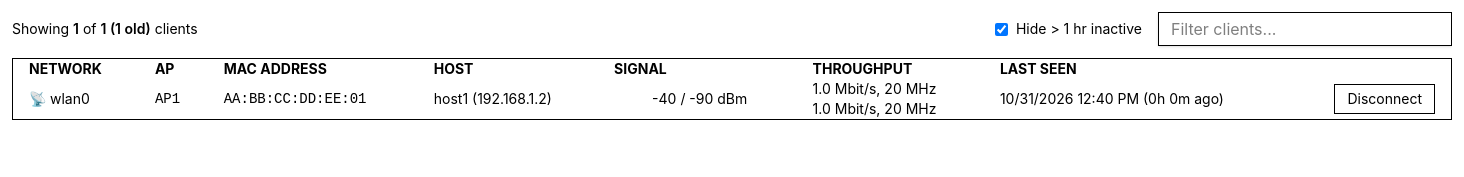
Test: ClientsTable › hides old clients when "Hide > 1 hr inactive" is checked
Expected: the link "AP1" is shown, x1=155 y1=91 x2=180 y2=107
Expected: the text "AP2" is not shown
# Uncheck and check again to verify toggle
Step 1. Click the checkbox labelled "Hide > 1 hr inactive" → (1002,29), box x1=995 y1=22 x2=1008 y2=36
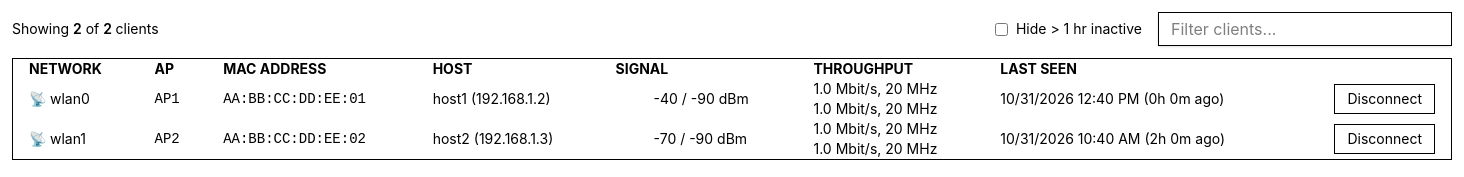
Now the link "AP2" is shown, box x1=155 y1=131 x2=180 y2=147
Step 2. Click the checkbox labelled "Hide > 1 hr inactive" → (1002,29), box x1=995 y1=22 x2=1008 y2=36
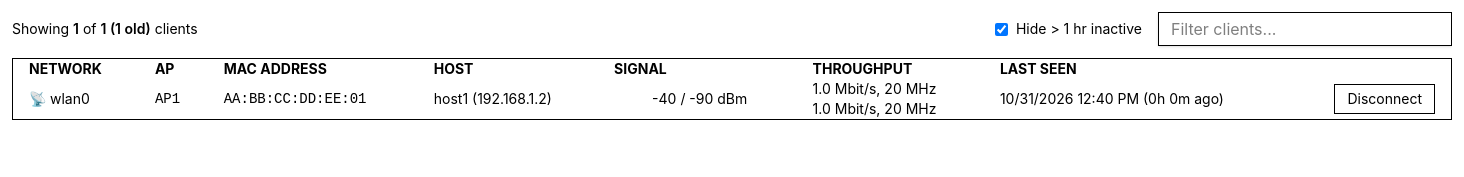
Now the link "AP2" is gone
